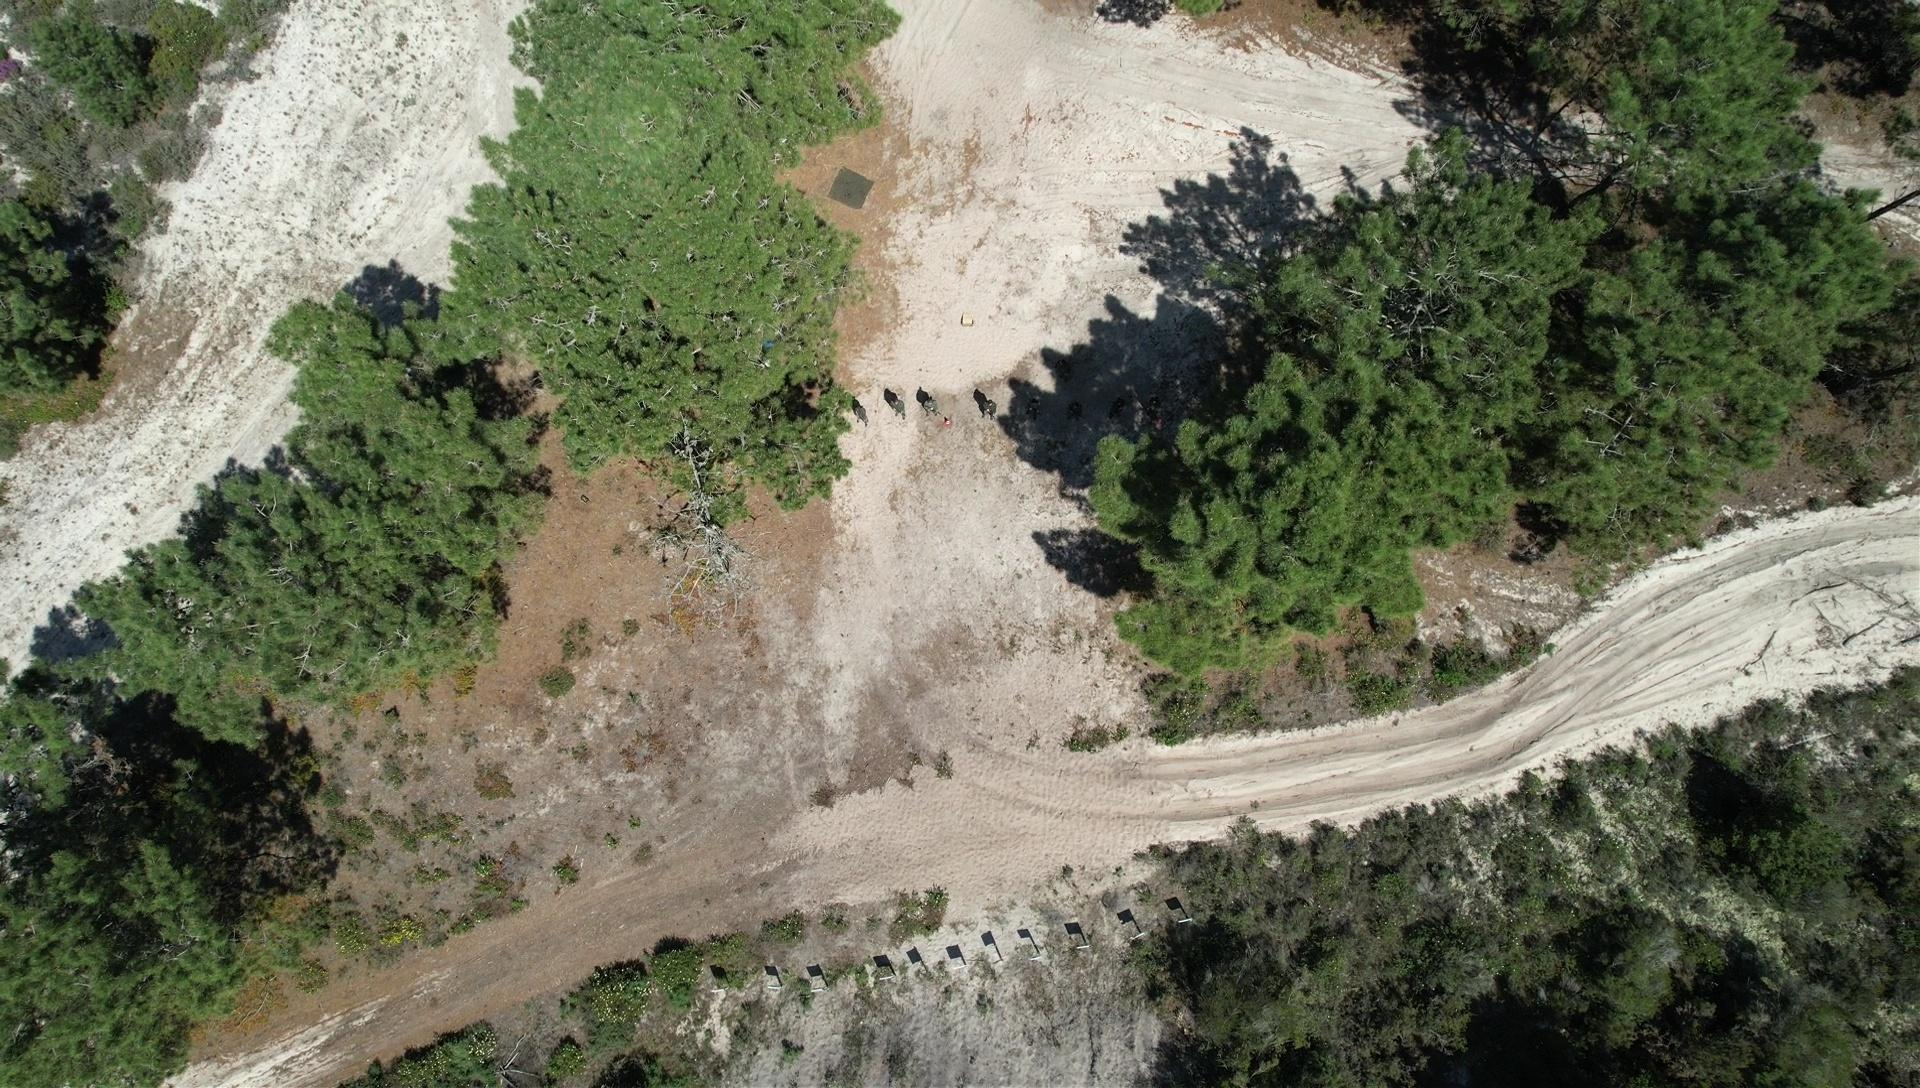Soldier: (887, 392, 913, 422), (1023, 394, 1045, 421), (976, 395, 1000, 419), (1052, 356, 1077, 379), (920, 394, 943, 418), (852, 402, 873, 428), (1063, 396, 1084, 418), (1145, 395, 1163, 419), (1110, 395, 1126, 421)
